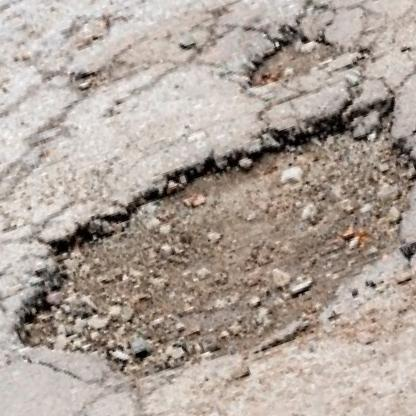pothole: (0, 82, 416, 416), (230, 12, 345, 99)
